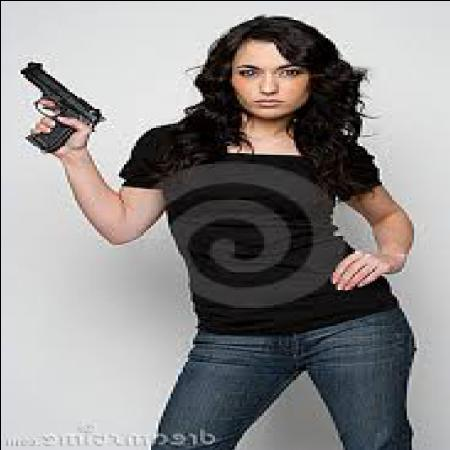Pistol: (22, 55, 103, 150)
